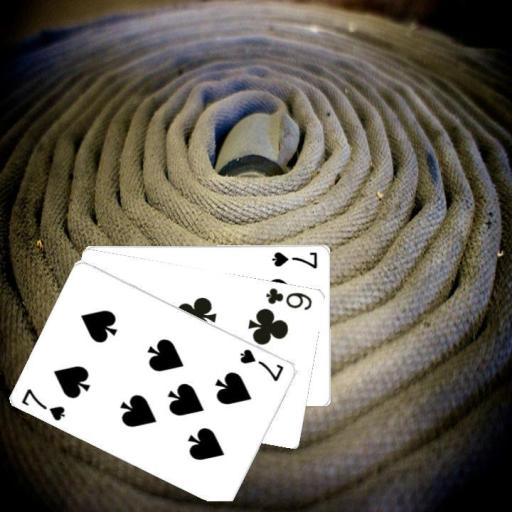6C: (263, 284, 314, 311)
7S: (237, 346, 286, 383), (19, 385, 68, 422), (270, 248, 320, 270)
